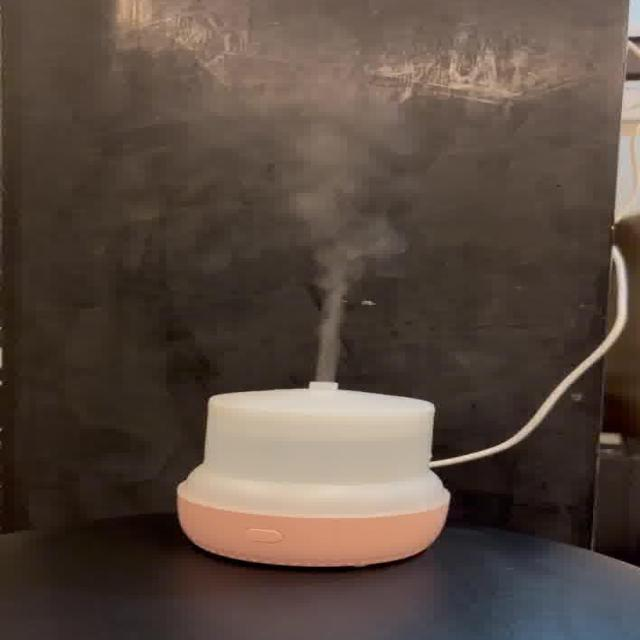fire: (283, 91, 418, 380)
